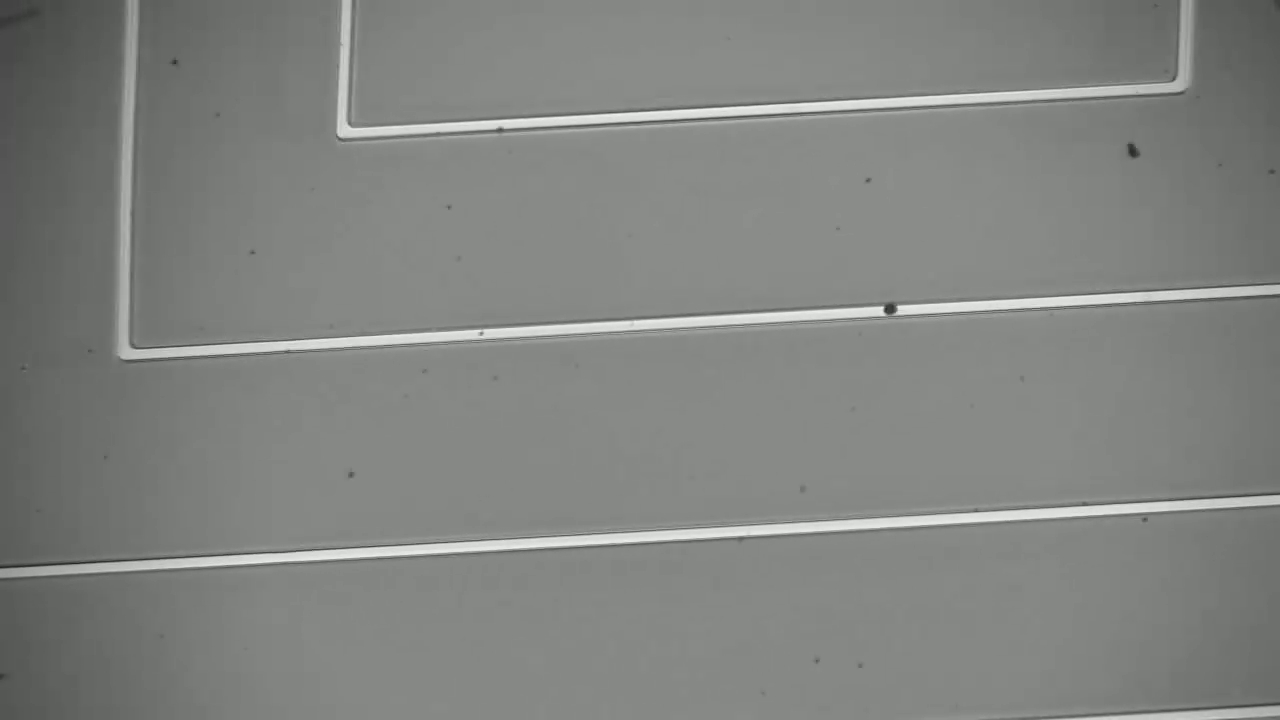stains_enbedded: (880, 295, 905, 326)
